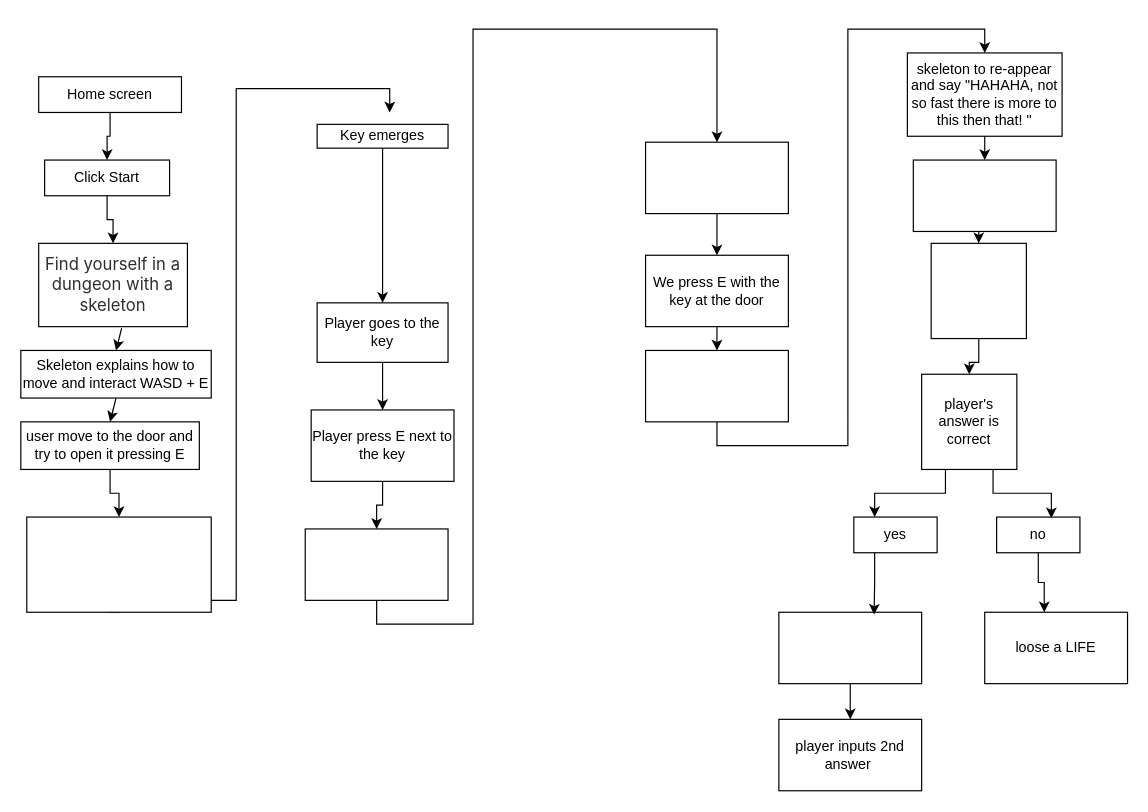
The diagram is 1148 pixels wide and 812 high, and some of its shapes have lost their labels. Here are the shapes that lost their labels. From the top down, the box of each, then its label:
(644, 141, 788, 214): We move to the door
(912, 159, 1056, 231): skeleton gives the 1st question prompt
(930, 242, 1026, 339): player inputs answer (number of titles in the room)
(644, 349, 788, 422): new room to appear
(26, 516, 211, 612): Skeleton re-appears to say "that we need a key
(304, 528, 448, 600): Key now moves with us
(778, 611, 922, 684): skeleton re-appears and asks second prompt
